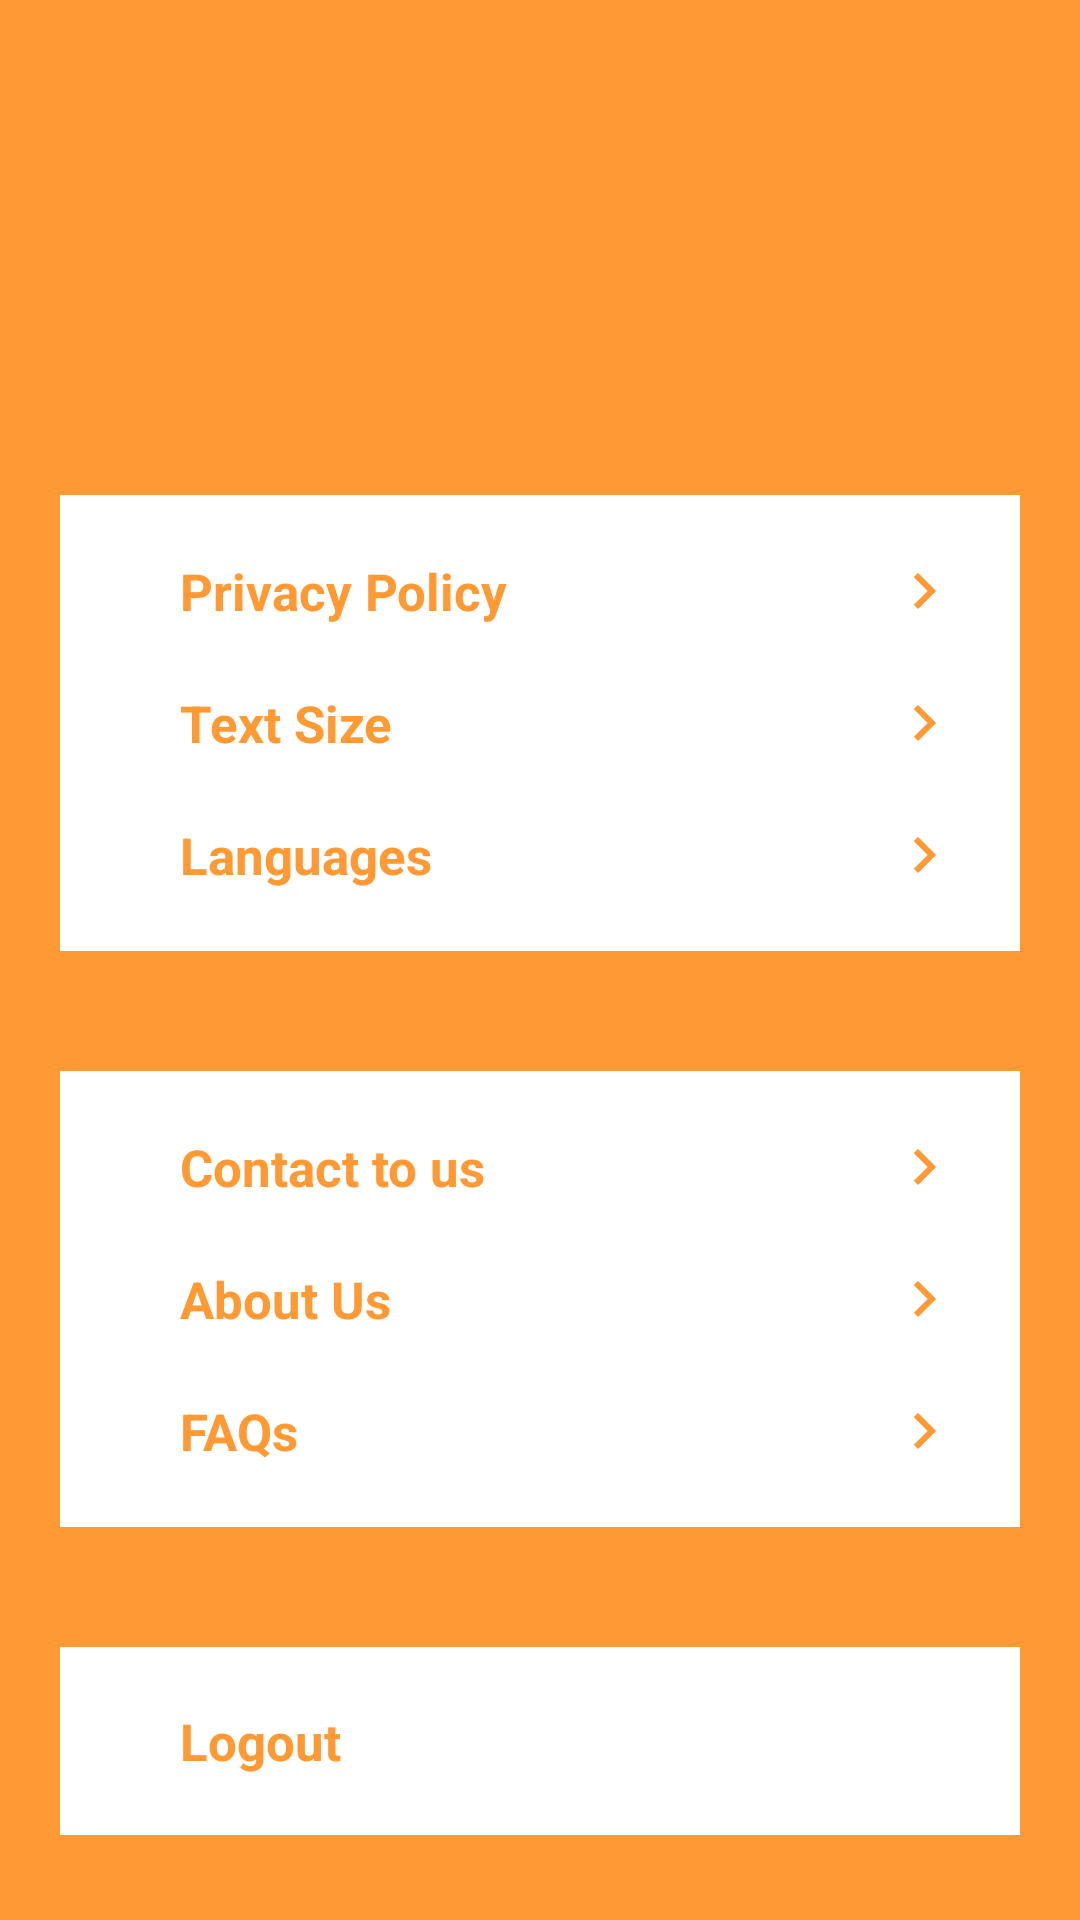

Icon click points for this 1080px×1920px phone screenshot, format (x=x, y=y):
right arrow: (x=925, y=591), (x=925, y=723), (x=925, y=855), (x=925, y=1167), (x=925, y=1299), (x=925, y=1431)
